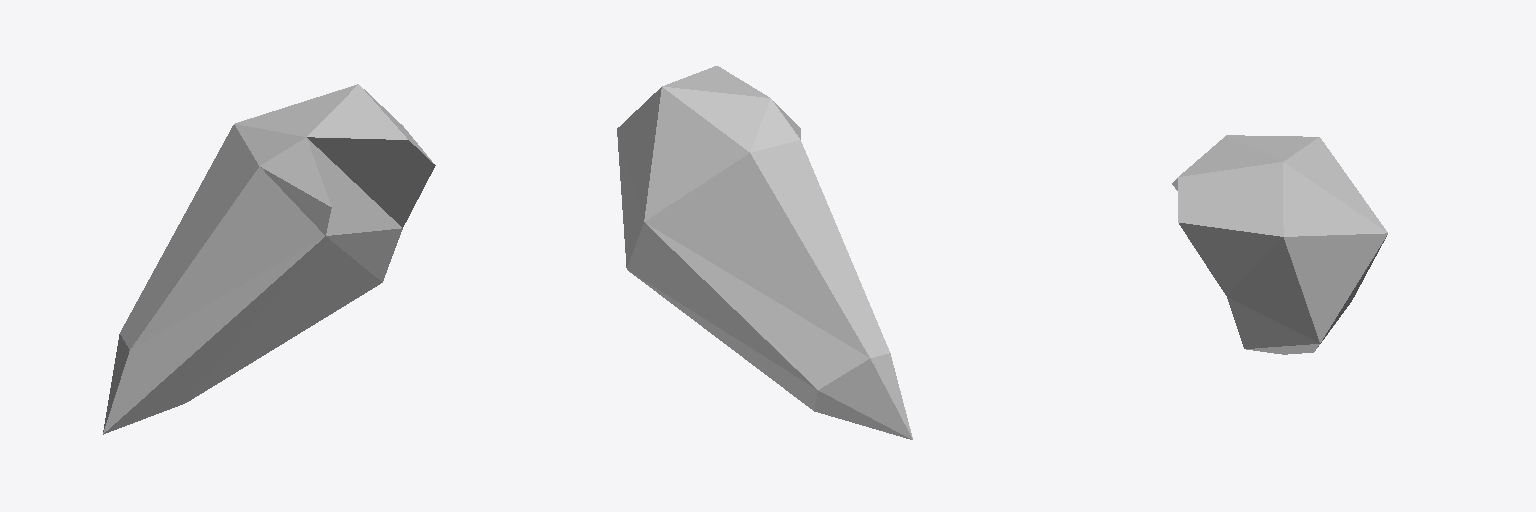
The model's file is toad_b_izq.obj.
3 views of the same model, side by side, from view 1: azimuth 30°, elevation 25°; view 2: azimuth 150°, elevation 25°; view 3: azimuth 270°, elevation 25° (orthographic).
Parts seen in each view (by area): view 1: Nemu_0_0_52; view 2: Nemu_0_0_52; view 3: Nemu_0_0_52.
Boxes of the visible parts, x1=… form: Nemu_0_0_52: x1=103, y1=84, x2=435, y2=434; Nemu_0_0_52: x1=617, y1=66, x2=912, y2=439; Nemu_0_0_52: x1=1172, y1=135, x2=1387, y2=354.
Size of the model in its own units: 1.42 by 1.32 by 0.894.